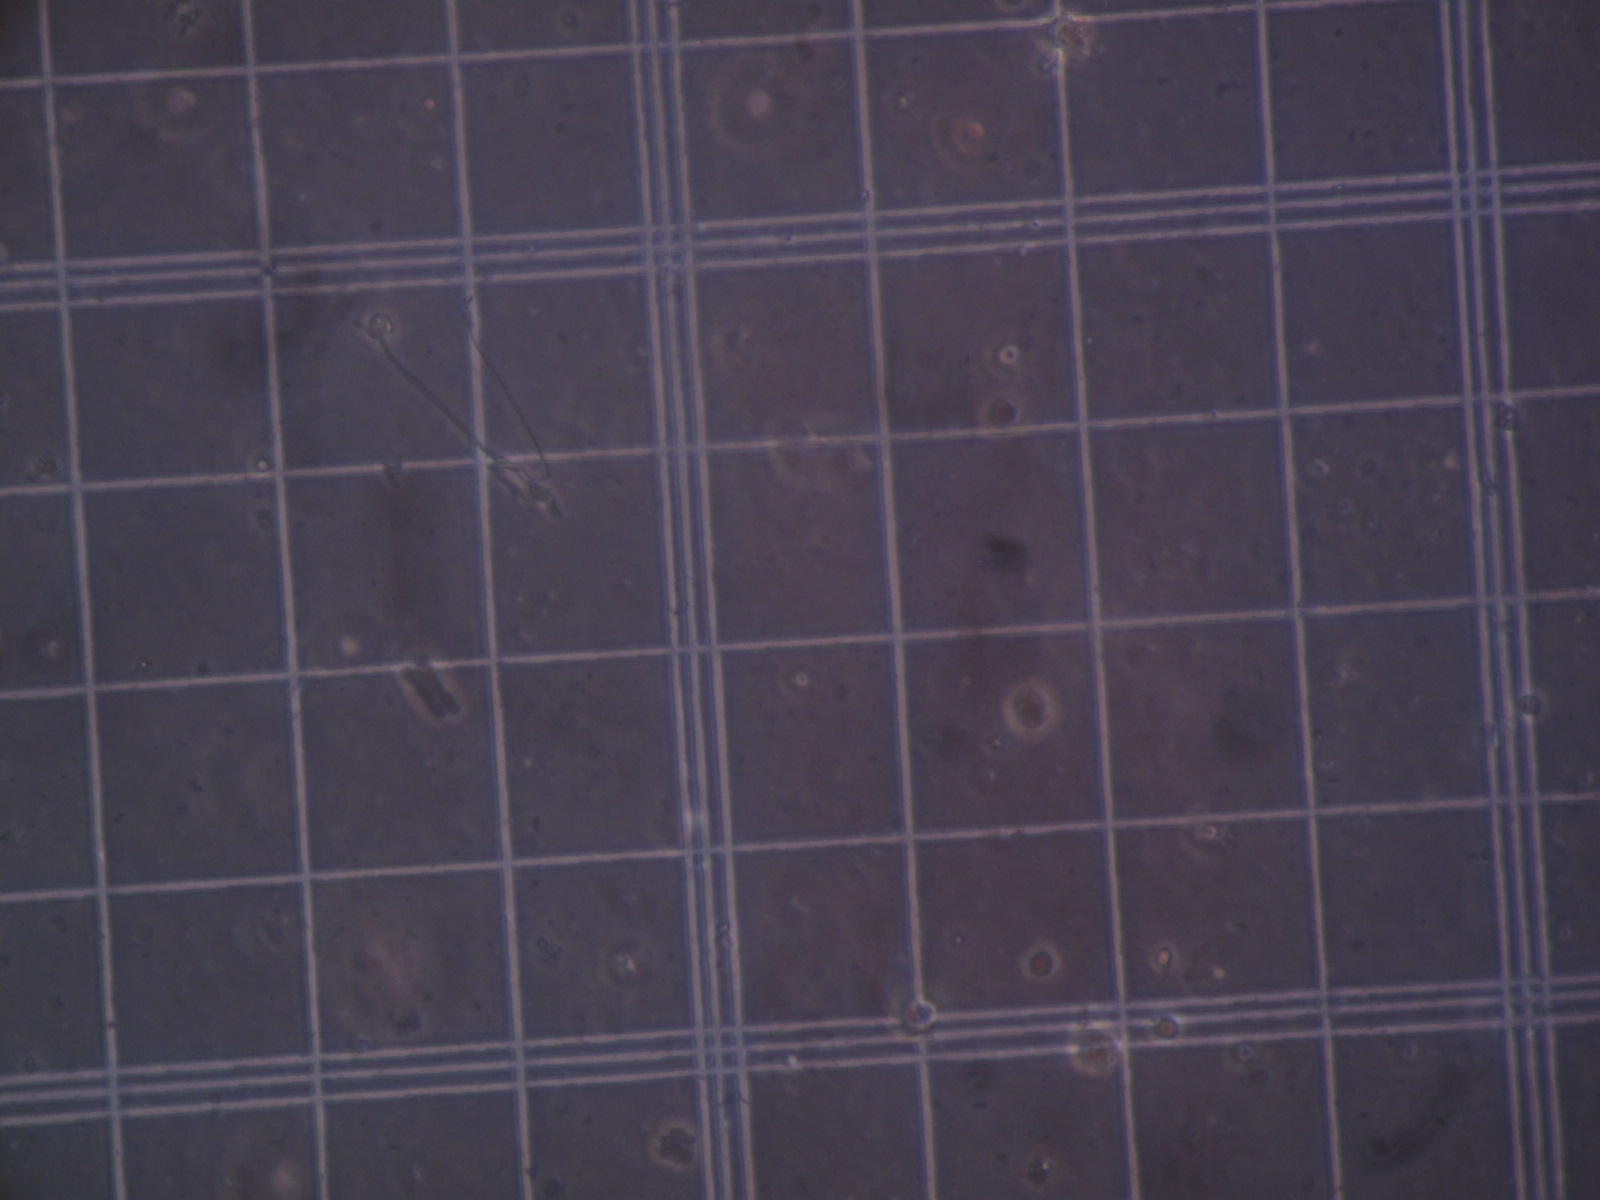hemo: (1002, 678, 1057, 739), (884, 987, 940, 1044), (1067, 1021, 1124, 1076), (976, 389, 1029, 441), (651, 1118, 700, 1171), (1221, 1035, 1264, 1074), (1020, 943, 1061, 982), (362, 306, 401, 345), (1146, 1010, 1184, 1046), (1513, 687, 1550, 722)
